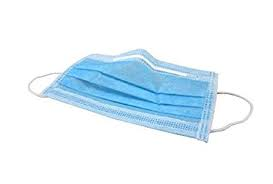flumask: (53, 45, 223, 128)
